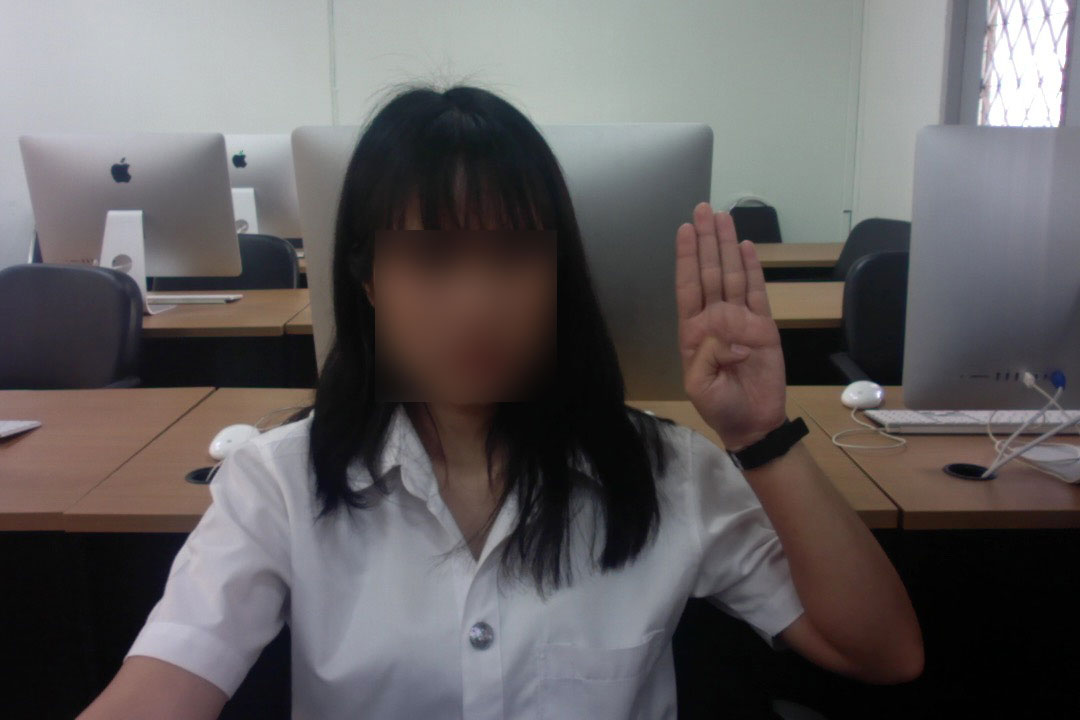bor: (665, 196, 792, 438)
